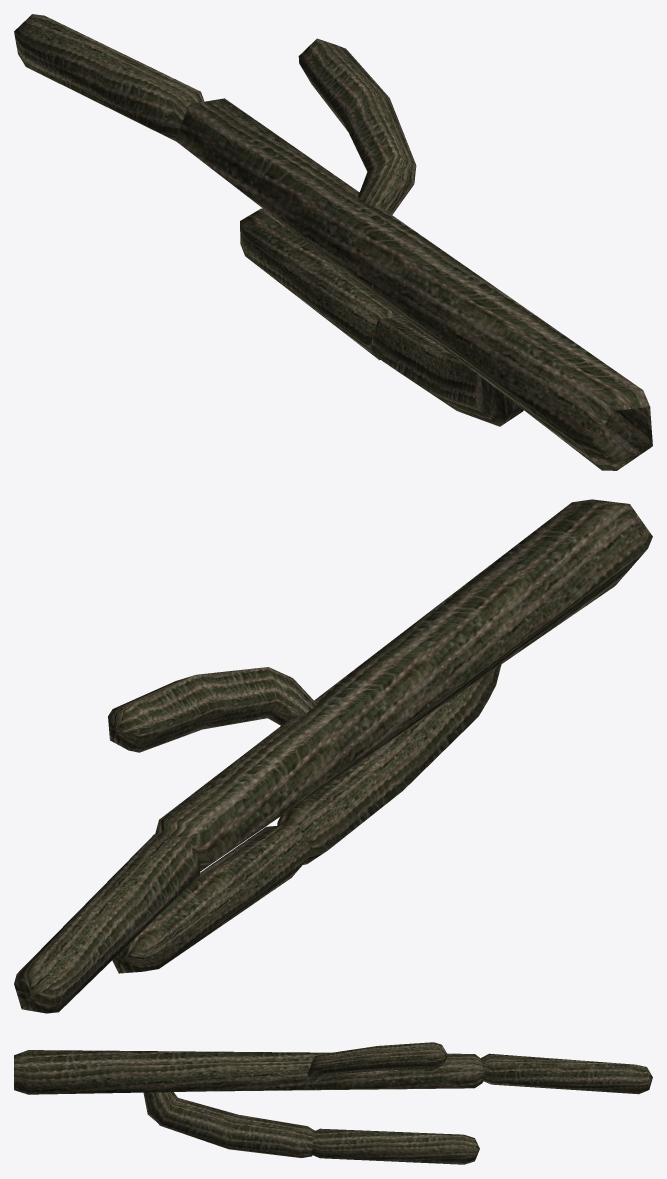
File: MEP_Cactus_C_02.fbx
3 views of the same model, one above another, from view 1: azimuth 30°, elevation 25°; view 2: azimuth 150°, elevation 25°; view 3: azimuth 270°, elevation 25° (orthographic). The views are drawn at different scales.
Visible parts, largest first — view 1: MEP_Cactus_C_02; view 2: MEP_Cactus_C_02; view 3: MEP_Cactus_C_02.
Part boxes in pixels (x1,y1,x2,y2): MEP_Cactus_C_02: [14, 14, 652, 470]; MEP_Cactus_C_02: [14, 499, 652, 1013]; MEP_Cactus_C_02: [14, 1042, 652, 1164].
Size of the model in its own units: 1.24 by 1.92 by 8.67.
Materials: 1 (1 with a texture image).
